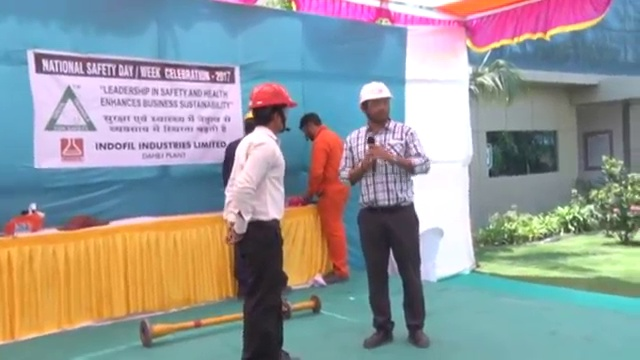helmet: (247, 82, 298, 108), (356, 80, 394, 108), (243, 108, 255, 122)
helmet_off: (298, 111, 324, 142)
helmet_on: (246, 81, 299, 138), (357, 80, 395, 127), (240, 107, 257, 138)
person: (340, 80, 433, 349), (227, 81, 299, 360), (298, 109, 353, 285), (222, 107, 257, 189)
